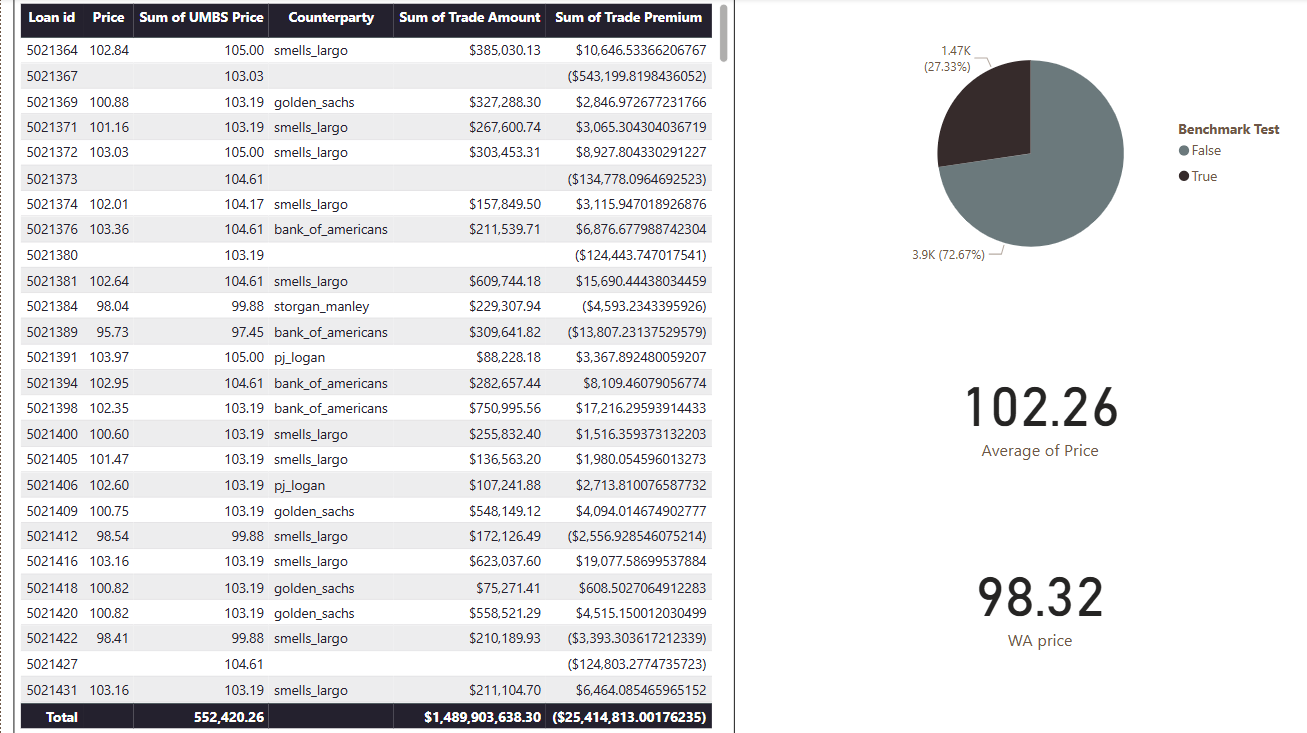

This screenshot's page, from the dashboard's own definition file:
{"tool":"powerbi","page":{"name":"Trade Analysis","canvas":[1280,720],"ordinal":2},"visuals":[{"type":"tableEx","fields":{"Values":["loan_data.loan_id","loan_data.Price","Sum(loan_data.umbs_price)","loan_data.Counterparty","Sum(loan_data.Trade Amount)","Sum(loan_data.Trade Premium)"]},"box":[11.6,0,705.4,720.9],"z":0},{"type":"pieChart","fields":{"Category":["loan_data.Benchmark Test"],"Y":["CountNonNull(loan_data.loan_id)"]},"box":[858.4,0,412.1,304.5],"z":1000},{"type":"card","fields":{"Values":["Avg(loan_data.Price)"]},"box":[810.7,316.7,412.1,173.6],"z":2000},{"type":"card","fields":{"Values":["loan_data.WA price"]},"box":[810.7,490.4,412.1,198.1],"z":3000}]}

Visuals, with their boxes in screenshot pixels (x1, y1, x2, y2), scaled from the page's 1280x720 canvas onto the 1307x733 screenshot:
tableEx - loan_data.loan_id x loan_data.Price: BBox(12, 0, 732, 732)
pieChart - loan_data.Benchmark Test x CountNonNull(loan_data.loan_id): BBox(877, 0, 1297, 310)
card - Avg(loan_data.Price): BBox(828, 322, 1249, 499)
card - loan_data.WA price: BBox(828, 499, 1249, 701)
